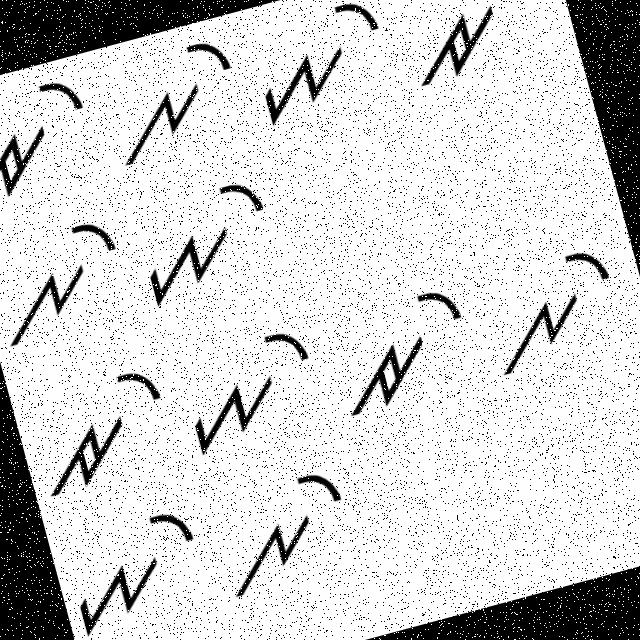lay: (469, 226, 632, 384), (206, 458, 370, 610), (93, 28, 255, 181), (0, 207, 138, 352)
ray: (318, 267, 484, 423), (20, 358, 182, 502), (387, 0, 558, 109), (0, 70, 109, 229)
yay: (164, 310, 336, 467), (117, 163, 284, 313), (55, 492, 218, 639), (238, 0, 403, 137)
